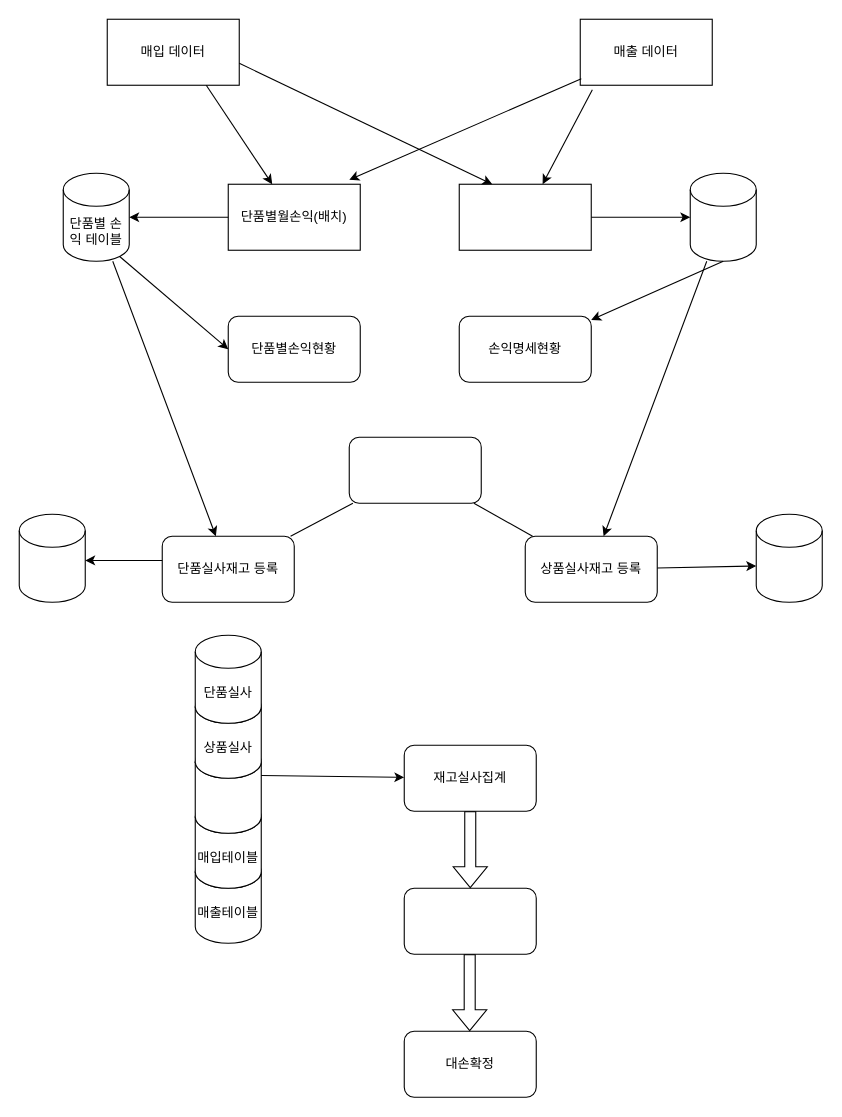
The diagram is 842 pixels wide and 1117 high, and some of its shapes have lost their labels. Here are the shapes that lost their labels. From the top down, the centre of each, then its label:
At pixel 524 216: "손익마감(배치)".
At pixel 722 216: "OP별 손익테이블".
At pixel 414 469: "재고조사일 등록".
At pixel 51 557: "단품실사테이블".
At pixel 788 557: "상품실사테이블".
At pixel 227 788: "OP별손익테이블".
At pixel 469 920: "재고과부족등록".
